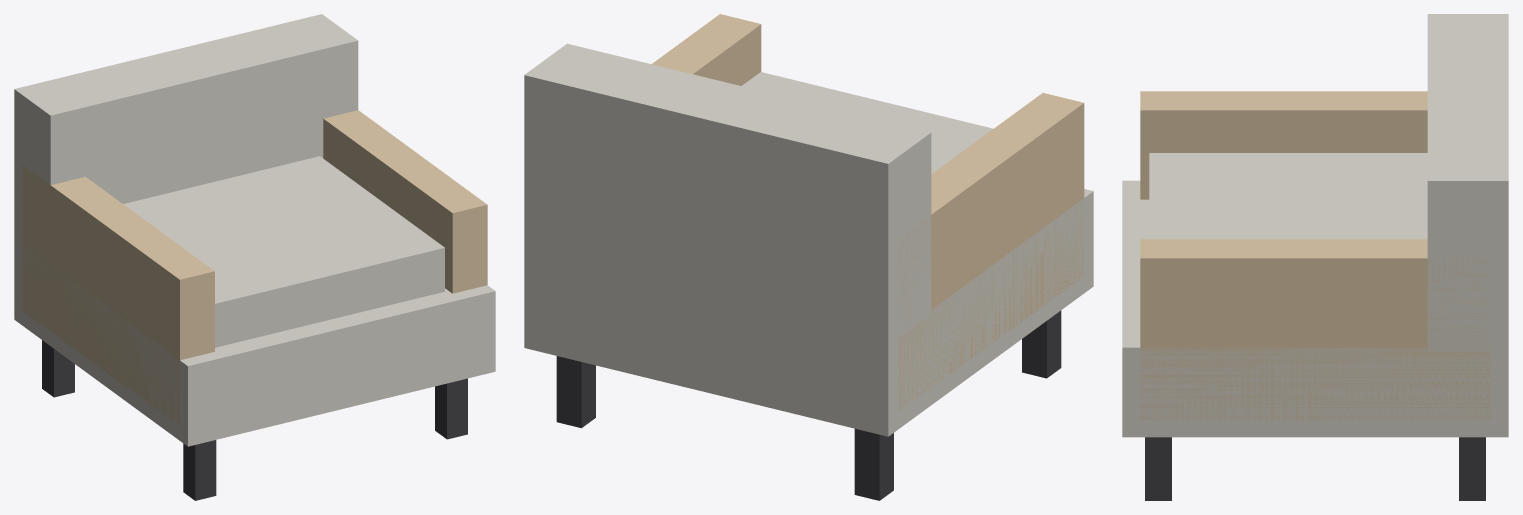
Rendered from chair.glb.
3 renders of one model, left to right at view 1: azimuth 30°, elevation 25°; view 2: azimuth 150°, elevation 25°; view 3: azimuth 270°, elevation 25°, orthographic. The views are drawn at different scales.
Parts seen in each view (by area): view 1: chair; view 2: chair; view 3: chair.
Boxes of the visible parts, x1,y1,x2,y2 form: chair: (14,14,495,500); chair: (524,14,1093,500); chair: (1122,14,1508,500).
Size of the model in its own units: 0.88 by 0.81 by 0.86.
